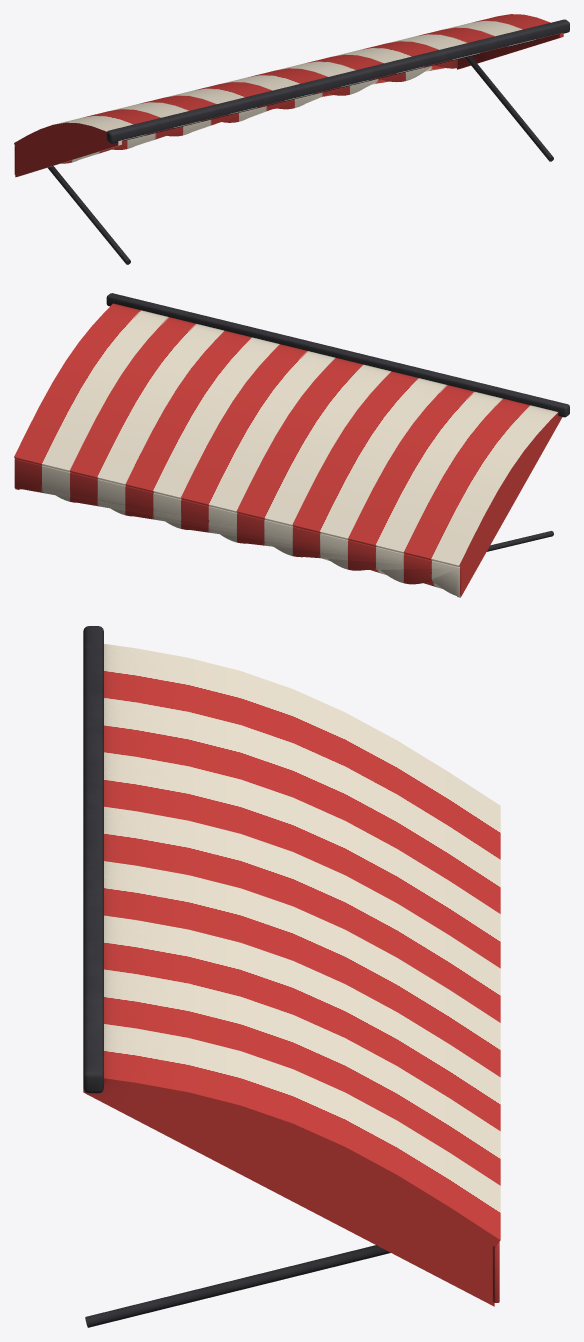
Rendered from ShopAwning.fbx.
3 views of the same model, one above another, from view 1: azimuth 30°, elevation 25°; view 2: azimuth 150°, elevation 25°; view 3: azimuth 270°, elevation 25° (orthographic). The views are drawn at different scales.
Parts seen in each view (by area): view 1: ShopAwning; view 2: ShopAwning; view 3: ShopAwning.
Part boxes in pixels (x1,y1,x2,y2): ShopAwning: [14, 14, 569, 264]; ShopAwning: [14, 293, 569, 597]; ShopAwning: [83, 626, 500, 1327].
Bounding box in the file's own units: 6.2 × 1.75 × 2.43.
Materials: 1 (1 with a texture image).
